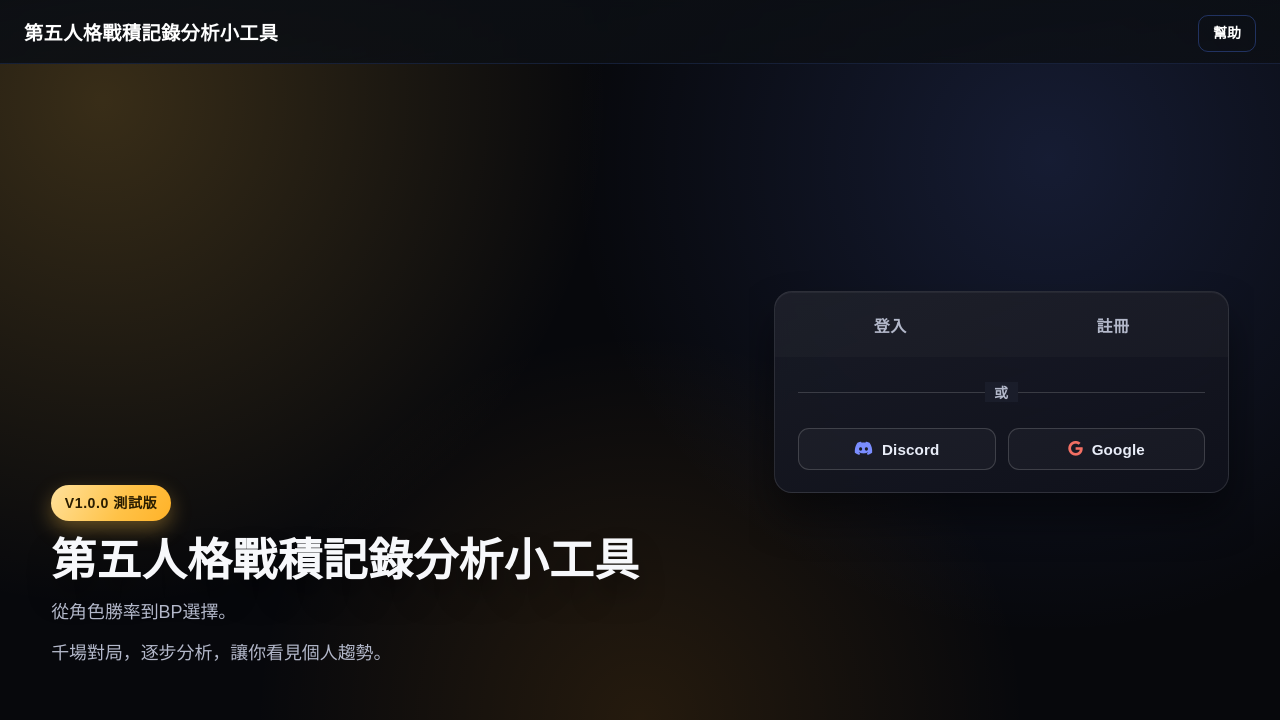
Test: Signin Page › navigates to OAuth provider when Google button is clicked
Step 1. Click the button "Google" → (1106, 449), box [1008,428,1205,470]
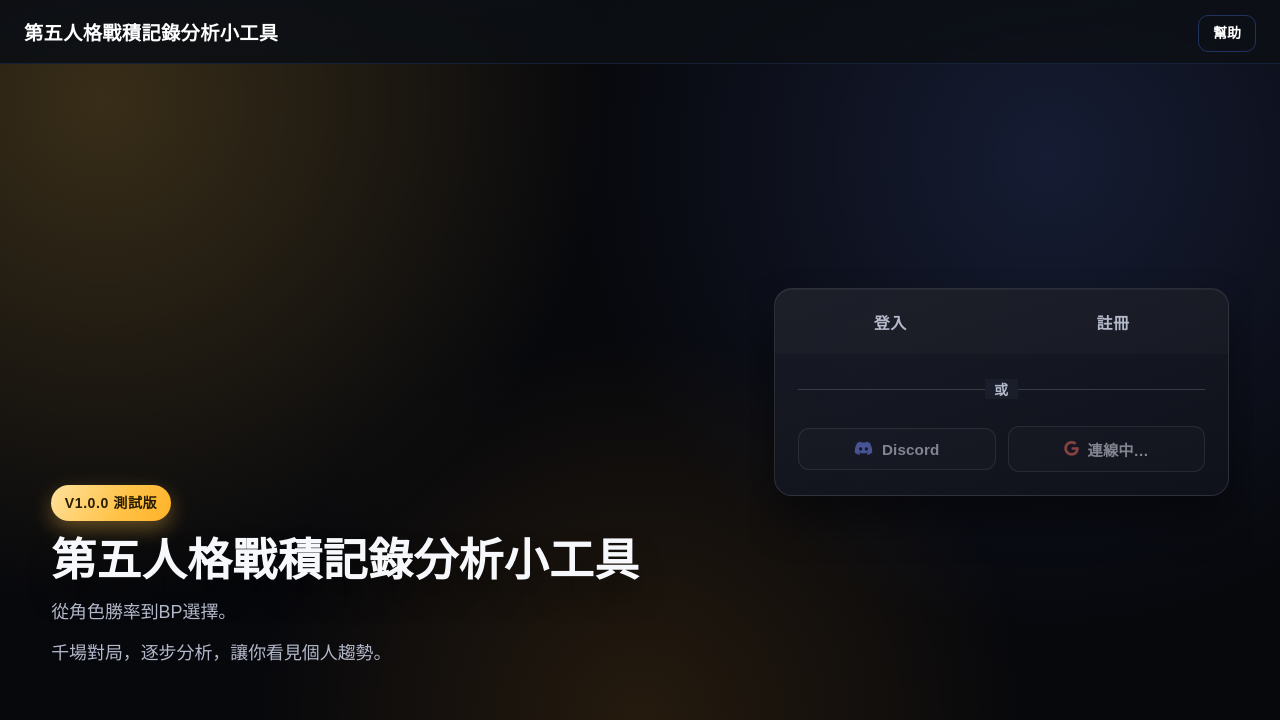
expect the button "連線中…" is shown: met, box [1008,426,1205,472]
